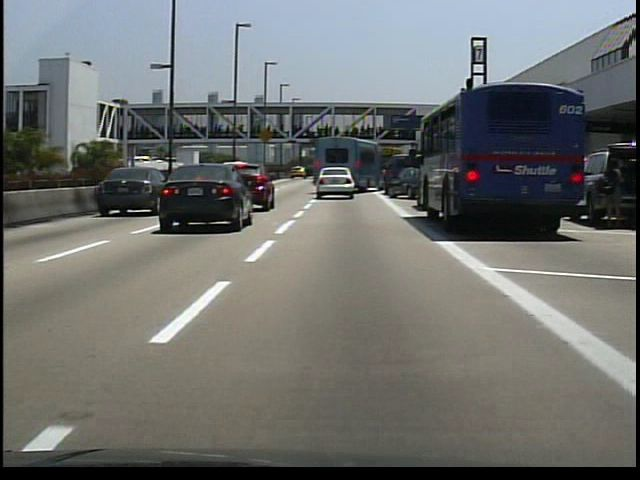person: (593, 156, 623, 227)
